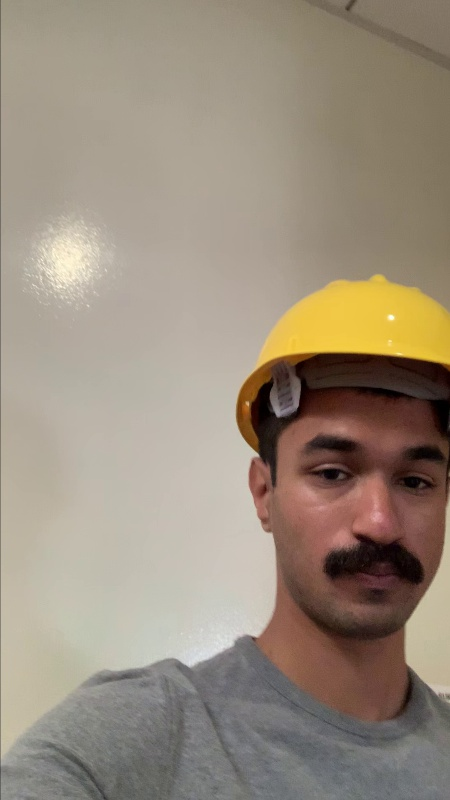helmet: (246, 277, 446, 367)
